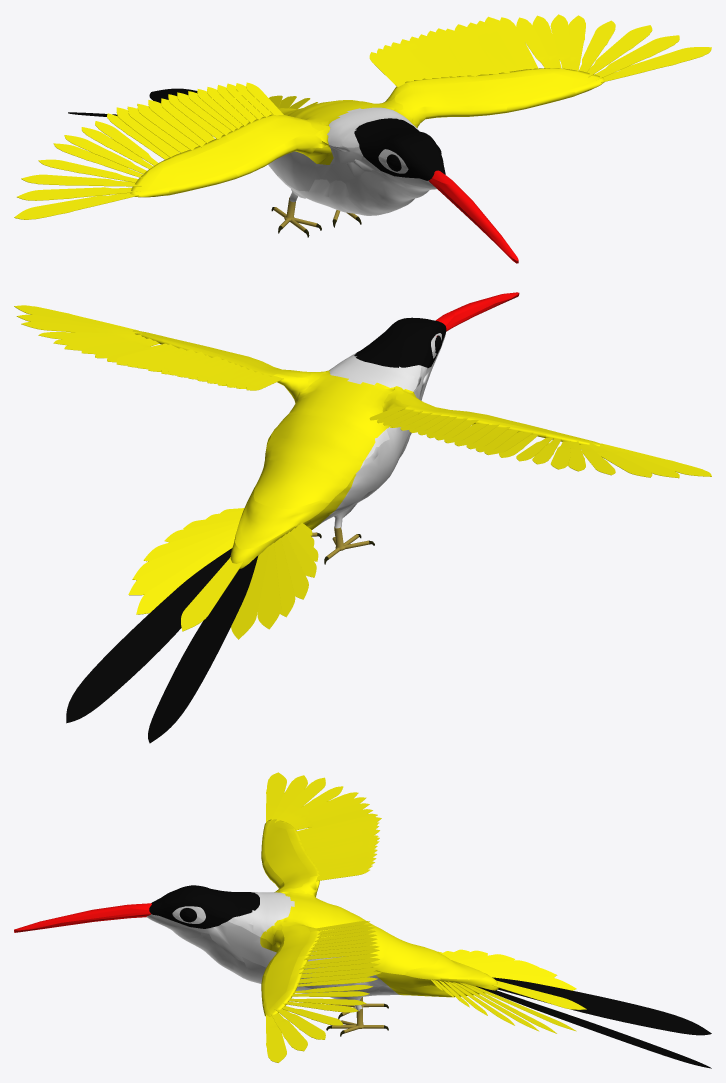
The model's file is bird.FBX.
3 views of the same model, one above another, from view 1: azimuth 30°, elevation 25°; view 2: azimuth 150°, elevation 25°; view 3: azimuth 270°, elevation 25° (orthographic). The views are drawn at different scales.
Visible parts, largest first — view 1: Bodu01, Bodu, Chub, Kluv, RPero01, LPero01, LPero02, RPero02, LPero03, RPero03, LPero04, LPero06 (+7 smaller); view 2: Bodu01, Pero01, Pero02, Bodu, Chub, Kluv, RPero01, LPero01, LPero03; view 3: Bodu01, Bodu, Pero02, Chub, Pero01, Kluv, LPero01, RPero01, RPero03, LPero02, RPero02, LPero03 (+1 smaller).
Boxes of the visible parts, <box> form: Bodu01: <box>95,16,604,197</box>; Bodu: <box>268,107,436,215</box>; Chub: <box>354,118,445,180</box>; Kluv: <box>428,170,518,263</box>; RPero01: <box>14,193,138,219</box>; LPero01: <box>601,47,711,82</box>; LPero02: <box>594,35,679,79</box>; RPero02: <box>17,187,136,200</box>; LPero03: <box>587,25,652,77</box>; RPero03: <box>21,174,141,186</box>; LPero04: <box>579,20,615,72</box>; LPero06: <box>550,14,570,69</box>; Bodu01: <box>95,330,603,639</box>; Pero01: <box>66,548,232,723</box>; Pero02: <box>148,555,258,743</box>; Bodu: <box>319,333,445,524</box>; Chub: <box>354,317,446,367</box>; Kluv: <box>436,292,519,336</box>; RPero01: <box>601,443,711,476</box>; LPero01: <box>14,305,138,330</box>; LPero03: <box>21,322,141,333</box>; Bodu01: <box>260,809,586,1033</box>; Bodu: <box>146,892,402,996</box>; Pero02: <box>492,977,711,1035</box>; Chub: <box>149,885,259,928</box>; Pero01: <box>476,986,711,1068</box>; Kluv: <box>14,903,151,932</box>; LPero01: <box>266,1014,286,1062</box>; RPero01: <box>266,772,286,822</box>; RPero03: <box>275,777,325,822</box>; LPero02: <box>270,1013,307,1051</box>; RPero02: <box>270,775,307,821</box>; LPero03: <box>275,1008,325,1039</box>.
Size of the model in its own units: 925 by 238 by 939.
